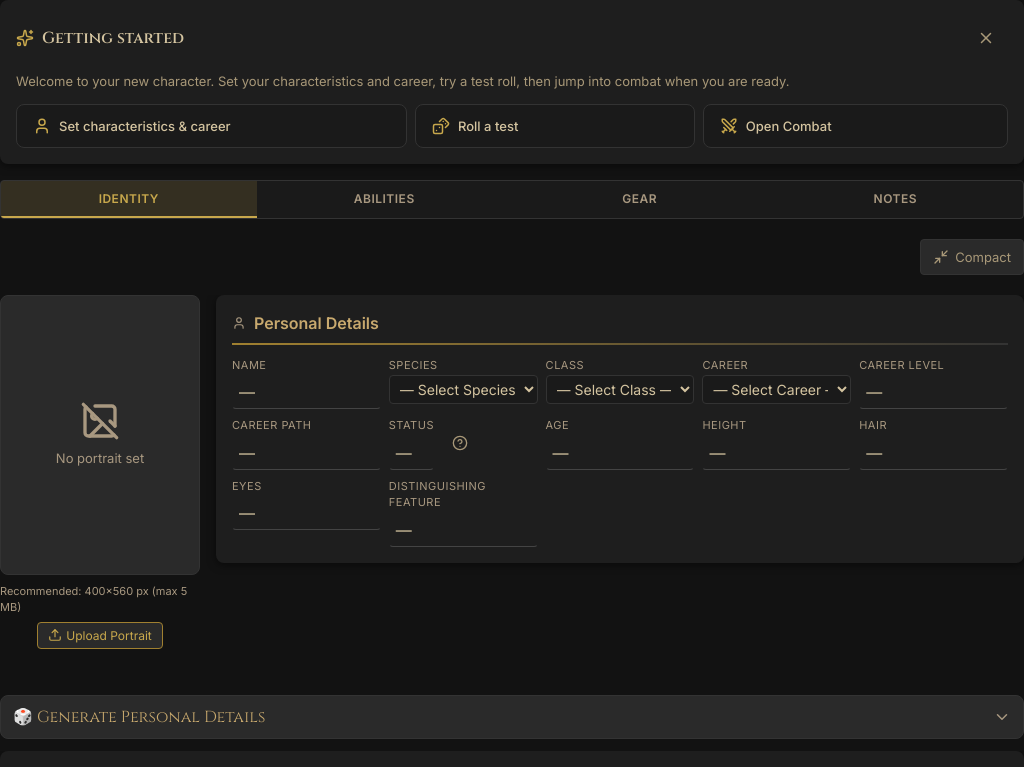
Scenario: Skill tooltips › clicking a different skill closes the first tooltip and opens a new one
Note: Navigate to the Abilities tab where basic skills are rendered
Click the tab "Abilities": (384, 199) [256,180,512,218]
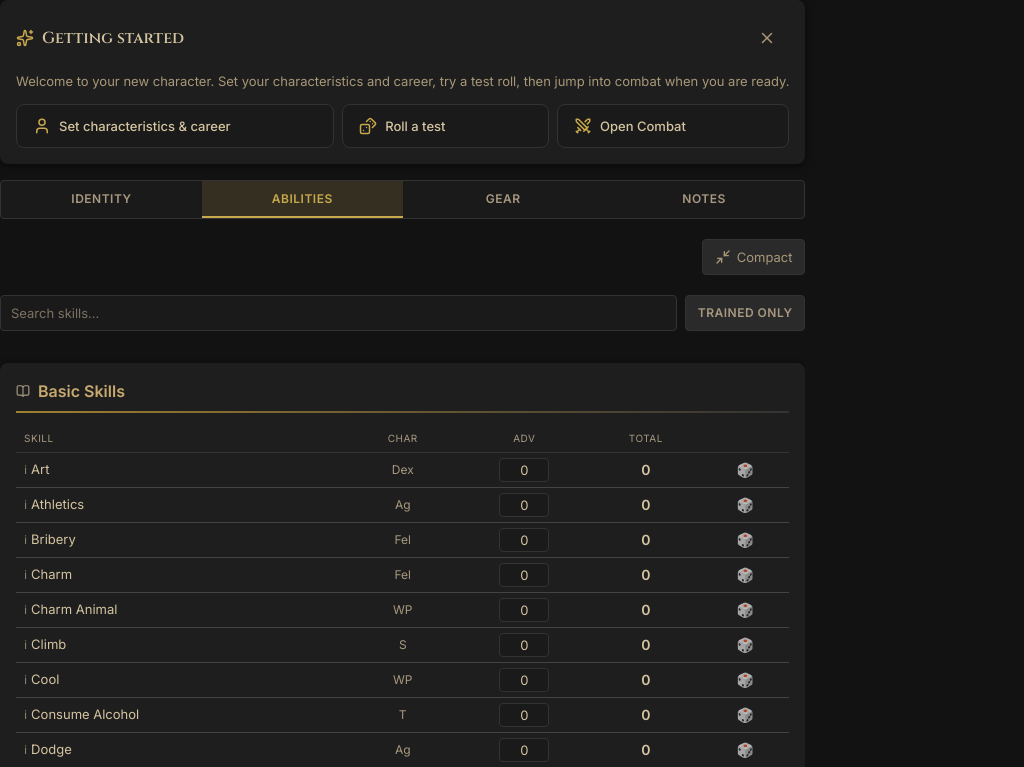
Note: Open tooltip for Athletics
Click the button named "Info for Athletics": (26, 504) [24,496,27,514]
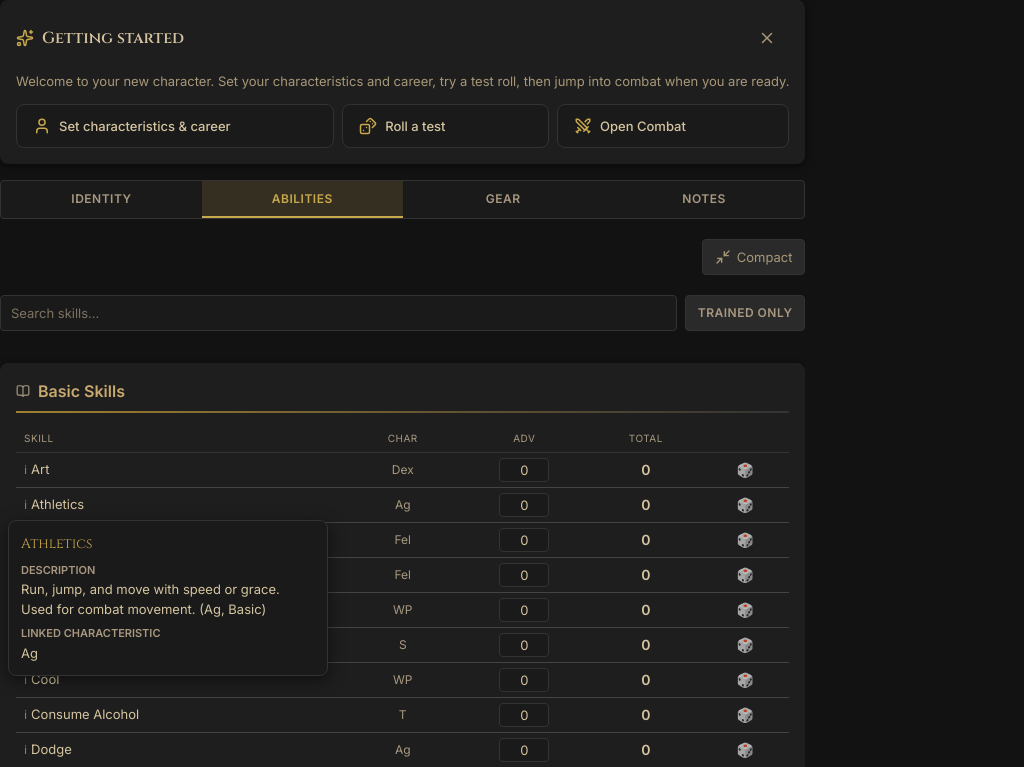
Check: the tooltip shows "Athletics", box [21,534,92,552]
Note: Click a different skill — Dodge
Click the button named "Info for Dodge": (26, 750) [24,740,27,758]
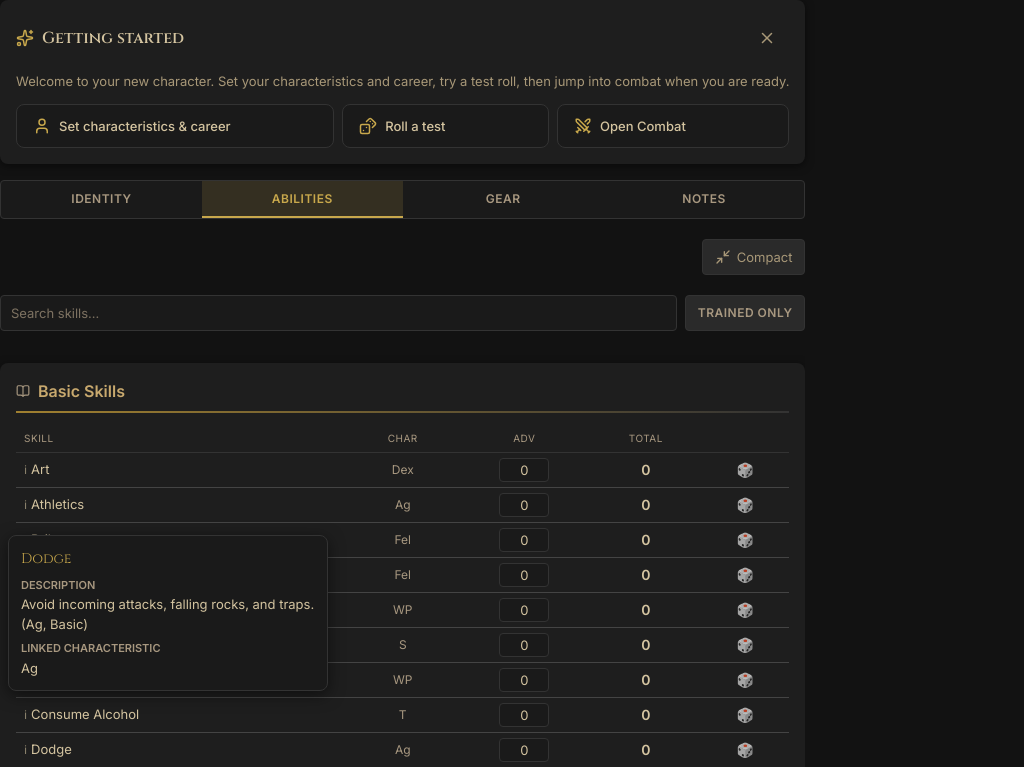
Check: the number of tooltips is 1, box [8,534,328,691]
Check: the tooltip shows "Dodge", box [21,548,71,568]
